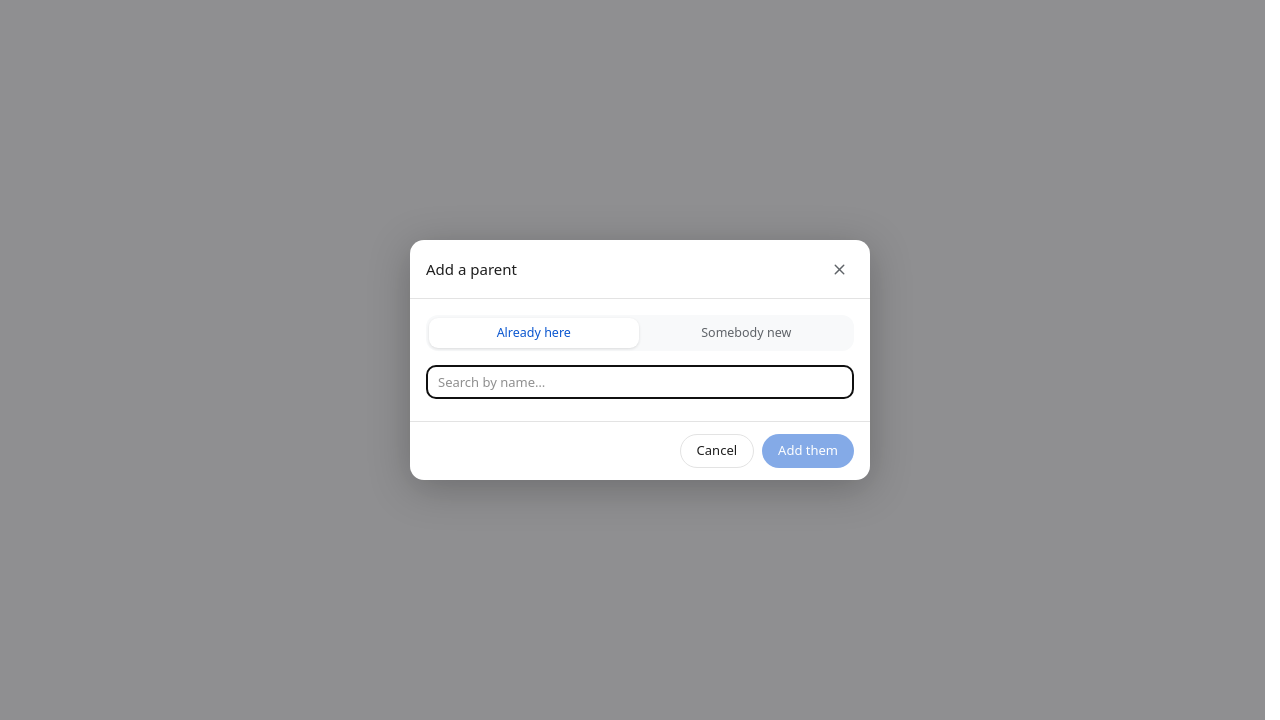
Test: AddRelativeModal › create-new mode › toggles back to Search-existing mode
Step 1. Click the button "Somebody new" → (746, 333), box [642,318,851,348]
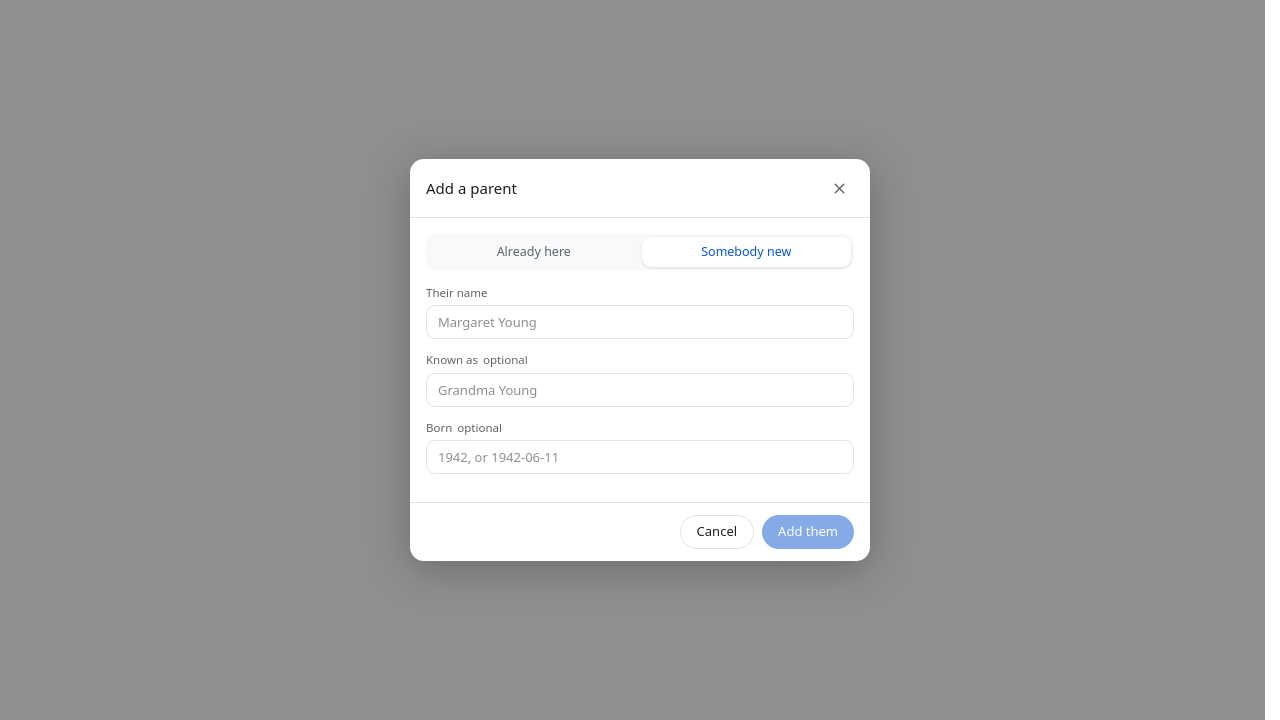
Step 2. Click the button "Already here" → (534, 252), box [429,237,638,267]
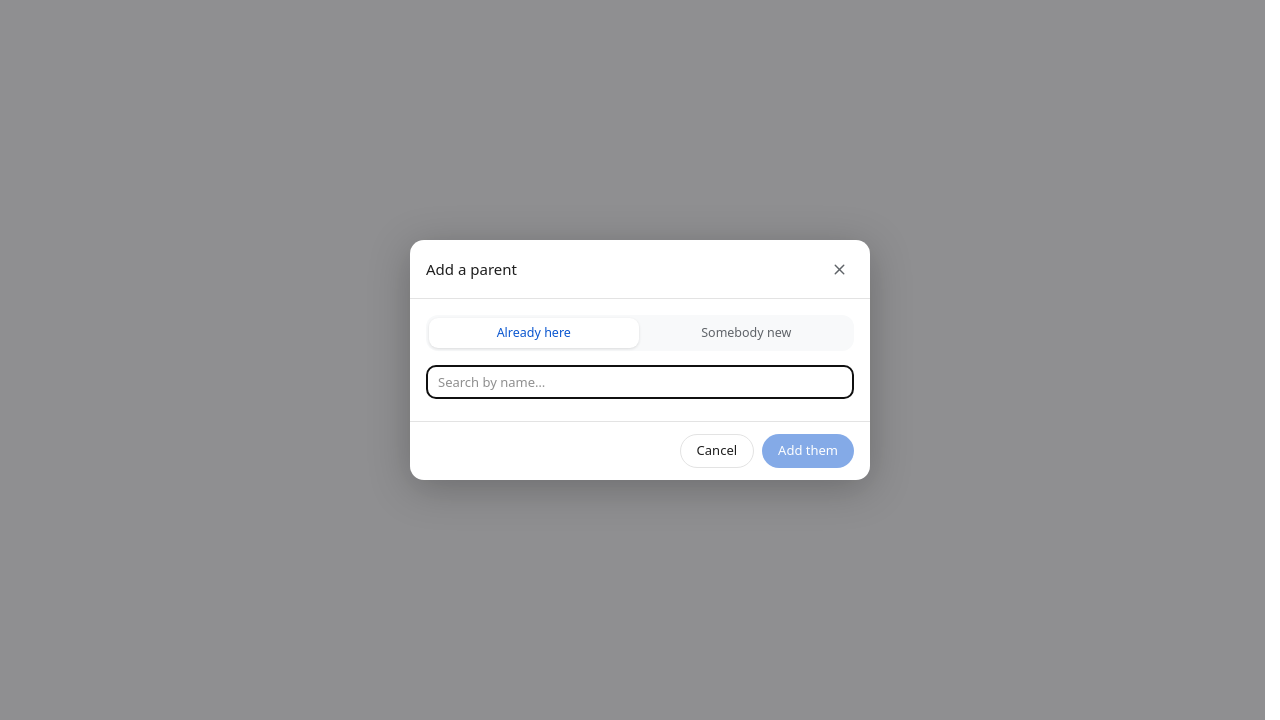
Expected: the field with placeholder "Search by name…" is shown, [426,365,854,399]
